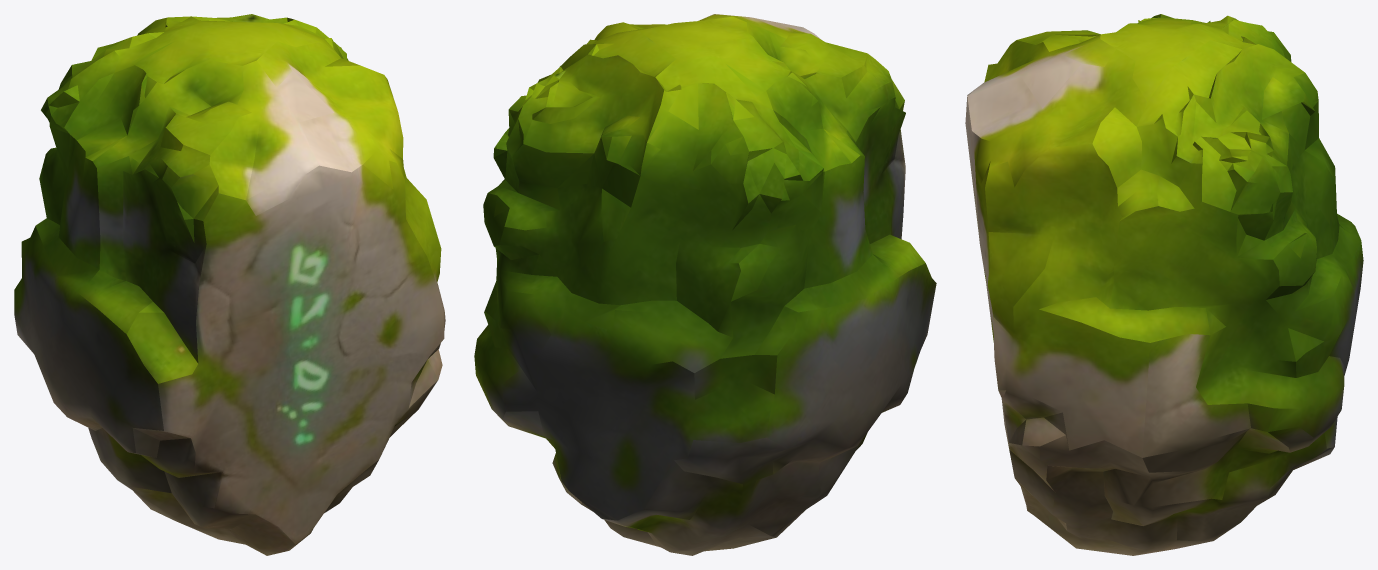
3 renders of one model, left to right at view 1: azimuth 30°, elevation 25°; view 2: azimuth 150°, elevation 25°; view 3: azimuth 270°, elevation 25°, orthographic. The views are drawn at different scales.
Parts seen in each view (by area): view 1: Moss Stones; view 2: Moss Stones; view 3: Moss Stones.
Boxes of the visible parts, left/top/right/bottom form: Moss Stones: left=14, top=14, right=445, bottom=555; Moss Stones: left=474, top=14, right=936, bottom=555; Moss Stones: left=965, top=14, right=1363, bottom=555.
Bounding box in the file's own units: 0.9013 × 1.22 × 0.867.
Materials: 1 (1 with a texture image).
